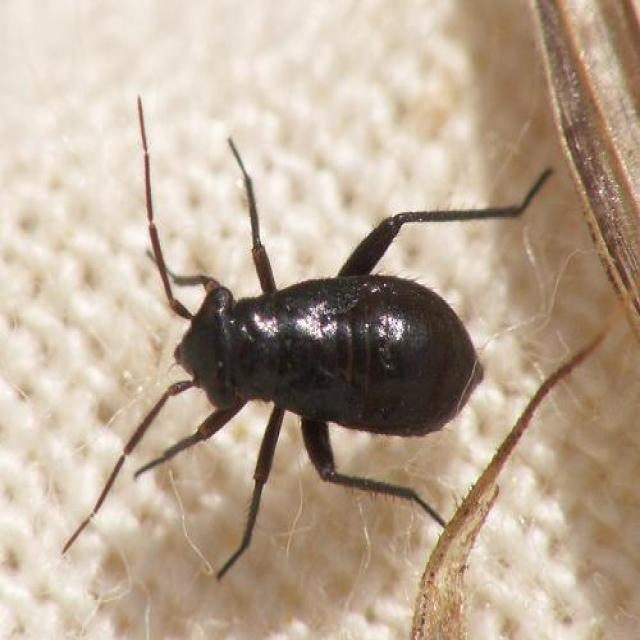Miridae-Adult-: (86, 92, 562, 570)
